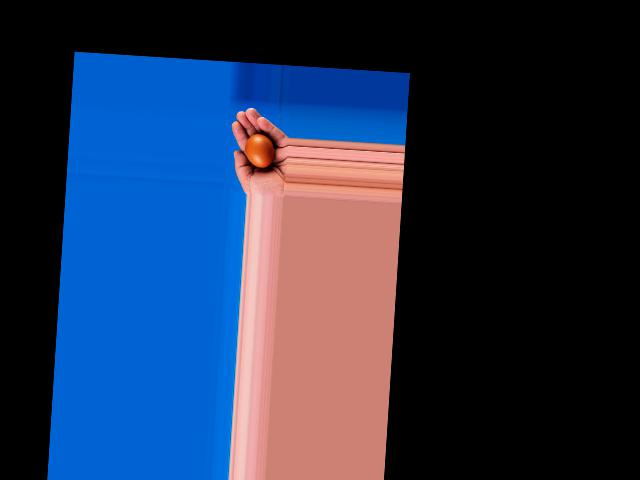egg: (244, 132, 274, 168)
